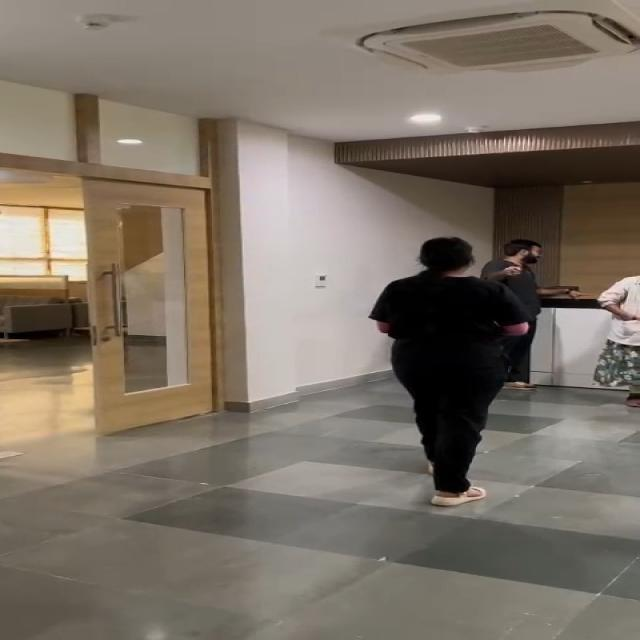door: (80, 183, 219, 415)
floor: (0, 439, 396, 640), (507, 405, 640, 640), (400, 513, 530, 640)
furniture: (0, 286, 78, 356)
moving_object: (382, 224, 511, 497), (504, 220, 566, 382)
wall: (230, 122, 392, 370)
